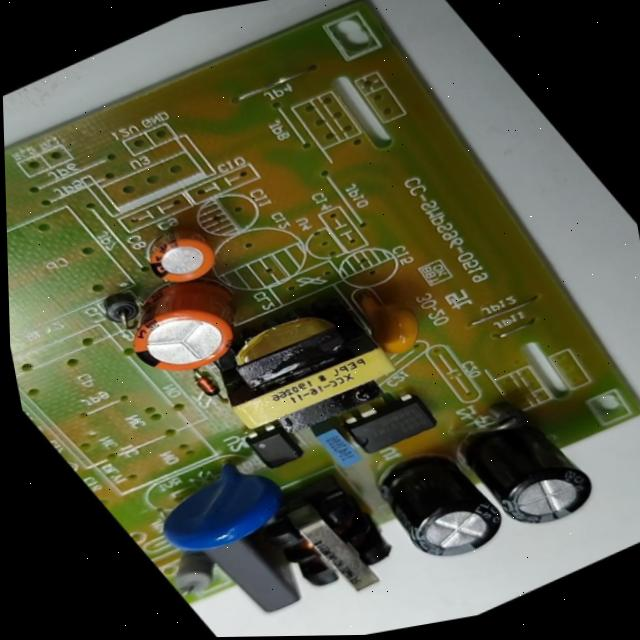Cap1: (89, 250, 294, 398)
Cap2: (118, 206, 239, 301)
Cap3: (344, 422, 533, 587)
Cap4: (436, 386, 621, 551)
MOSFET: (333, 384, 449, 464)
Mov: (123, 437, 312, 574)
Resistor: (153, 539, 237, 606)
Transformer: (175, 275, 423, 446), (235, 456, 431, 627)
